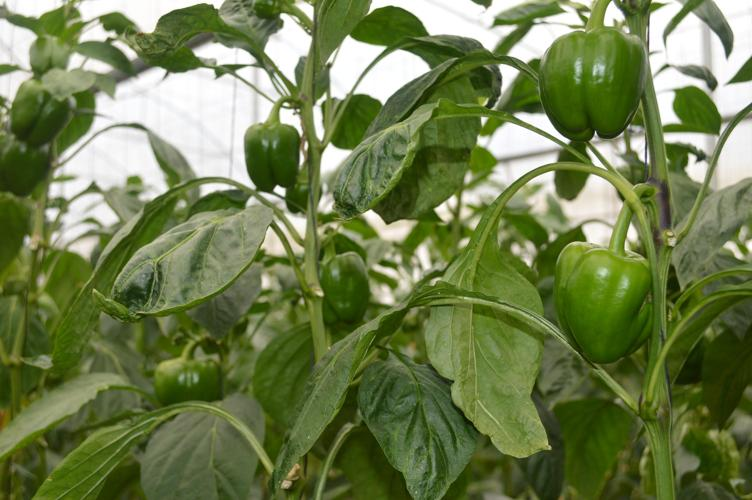BellPepper: (532, 17, 641, 153), (547, 240, 664, 361), (222, 112, 305, 198), (296, 244, 373, 333), (137, 348, 232, 406)
